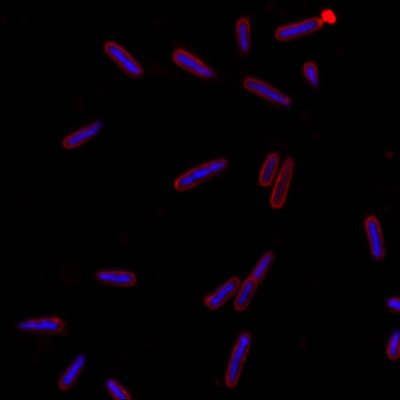Oblique: (172, 155, 230, 193), (243, 74, 296, 110), (170, 47, 219, 81), (269, 156, 296, 209), (57, 351, 90, 391), (62, 117, 103, 147), (13, 314, 65, 334), (233, 16, 251, 58), (302, 62, 320, 92)
Rifampicin: (233, 250, 274, 308), (102, 41, 145, 80), (224, 331, 250, 389), (273, 16, 324, 40), (201, 275, 240, 306), (364, 217, 384, 262), (92, 267, 137, 287), (257, 153, 280, 188)
